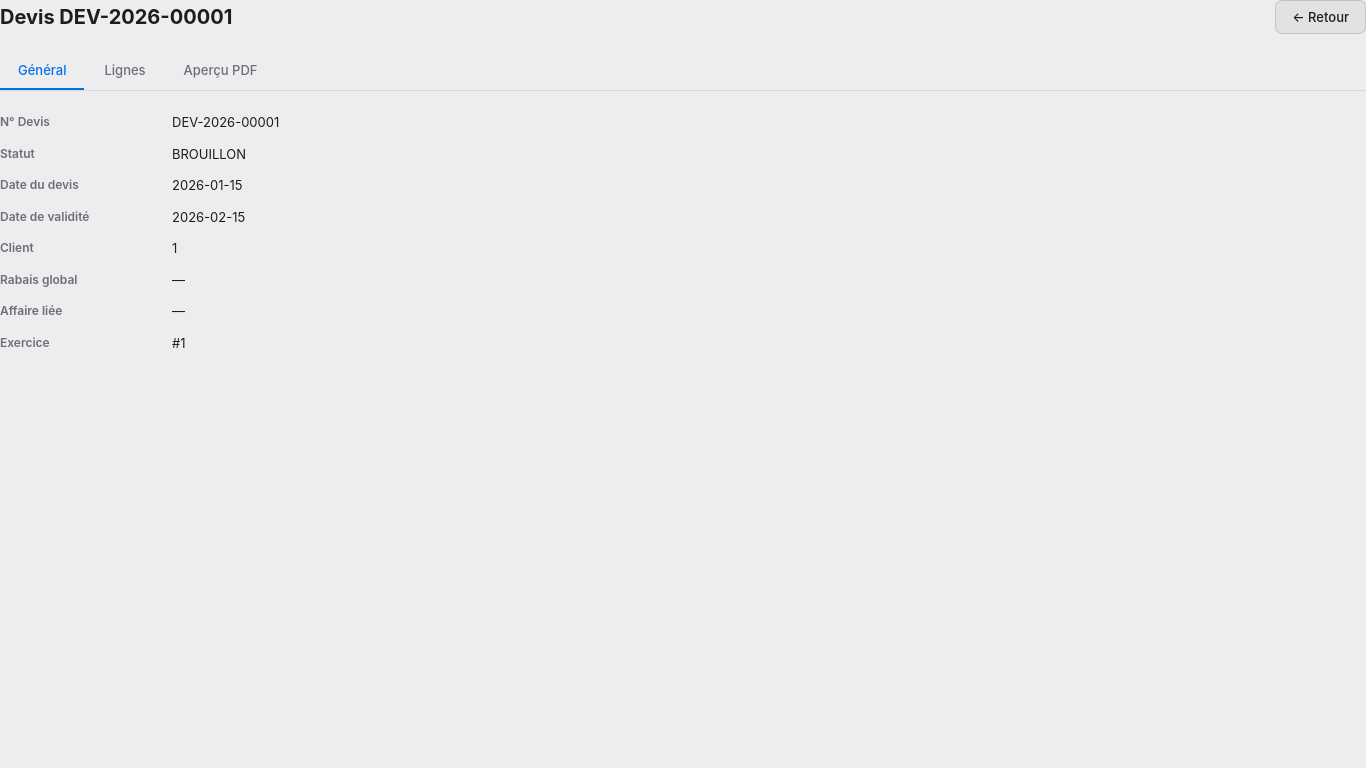
Test: R11 - Fiche Devis › ouvre le modal d'ajout de ligne et vérifie le formulaire
The width and height of the screenshot is (1366, 768).
Click the tab "Lignes". click: (125, 71)
box: [86, 52, 164, 90]
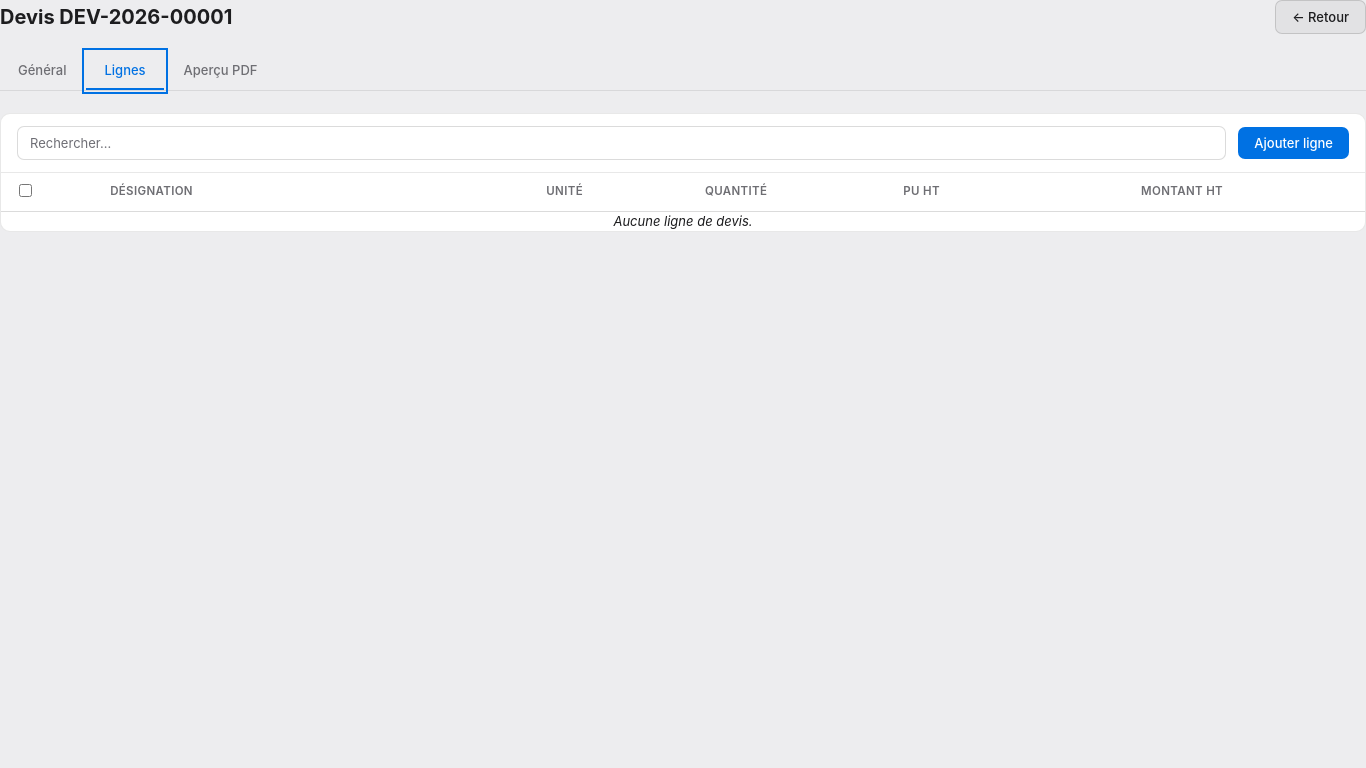
Click the button "Ajouter ligne". click: (1294, 143)
box: [1238, 127, 1349, 159]
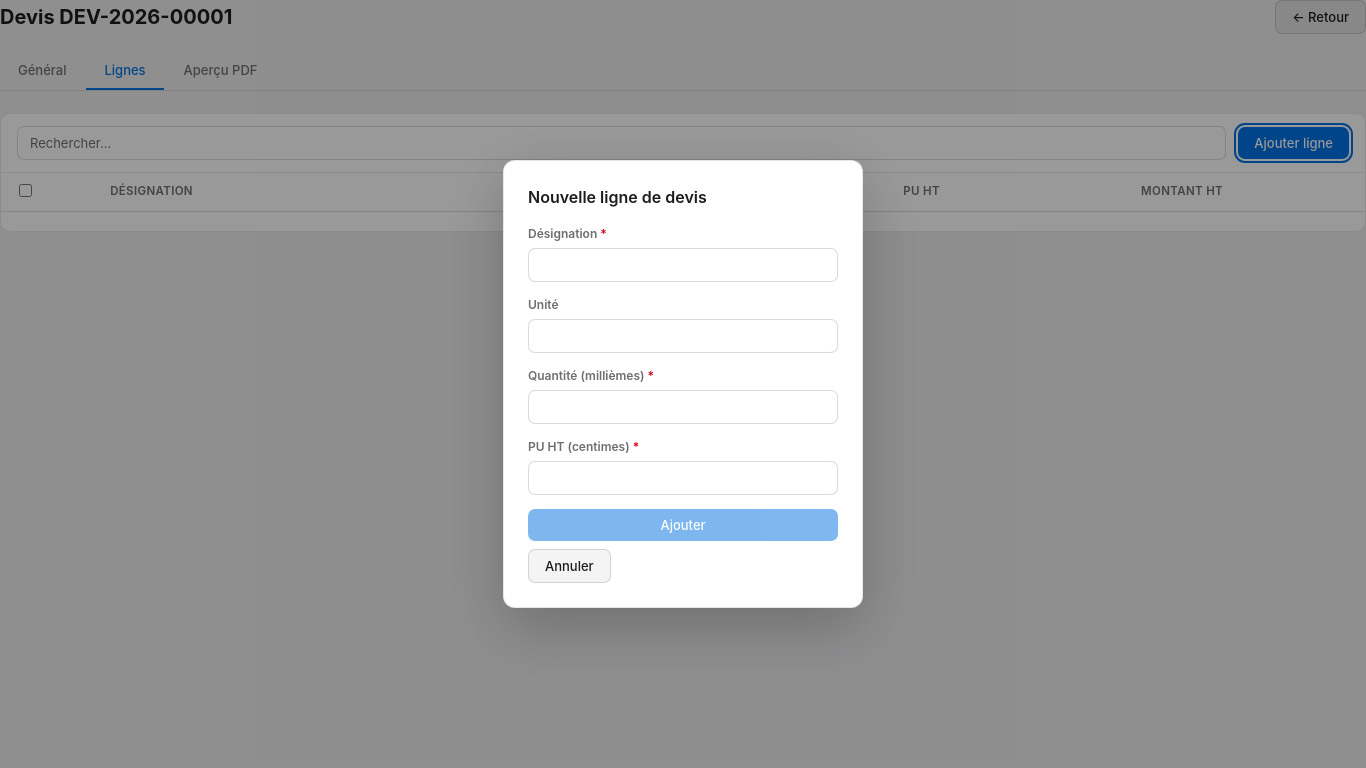
Expected: the field labelled "Désignation *" is shown, [528, 248, 838, 282]
Now the heading "Nouvelle ligne de devis" is shown, box [528, 187, 707, 207]
